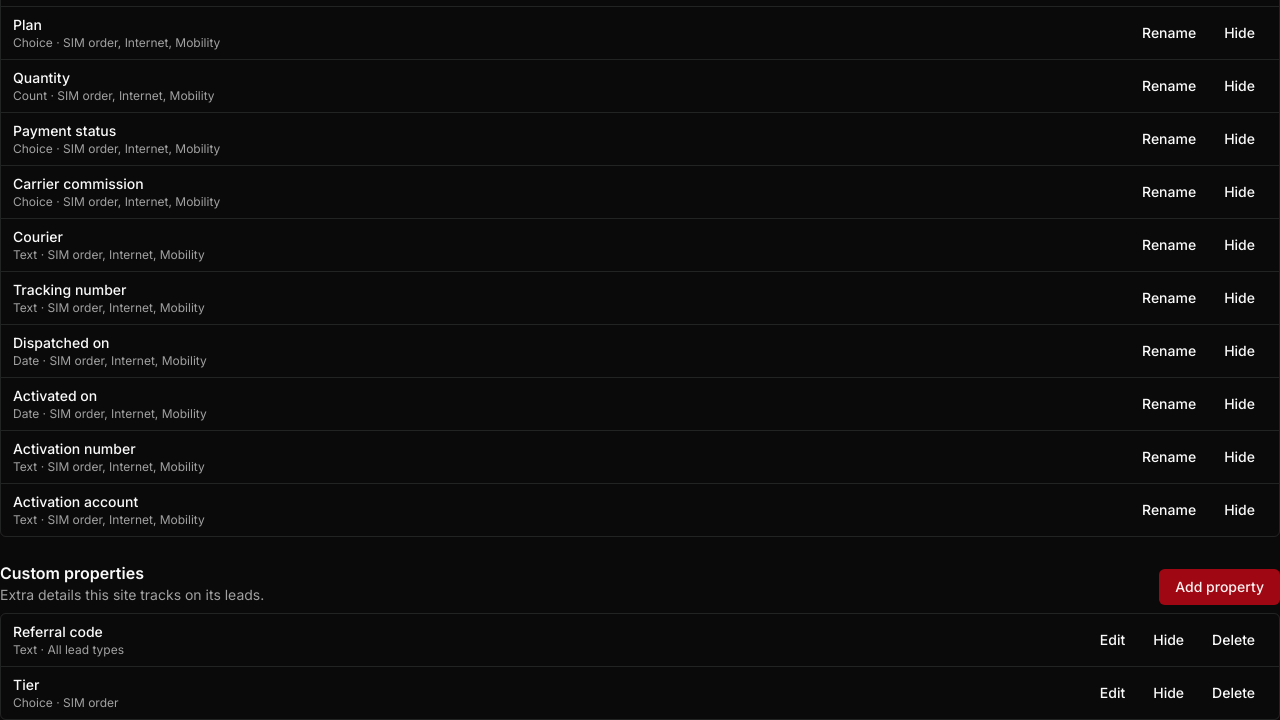
Scenario: PropertiesSettings properties › adds a custom property and reloads
(page scrolled)
Expected: the list named "Custom properties" is shown, [0,613,1279,719]
Click the button "Add property" at (1220, 587), box [1159,569,1279,605]
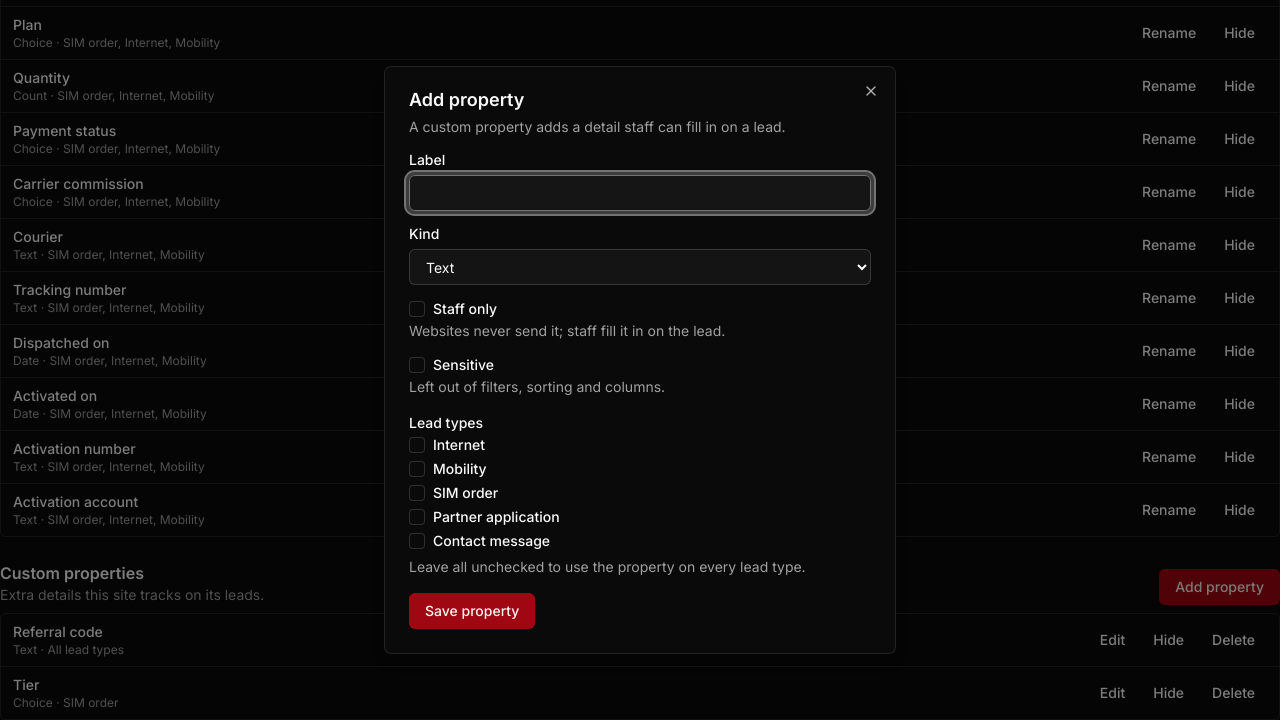
Type "Account manager" into the field labelled "Label" at (640, 193), box [409,175,871,211]
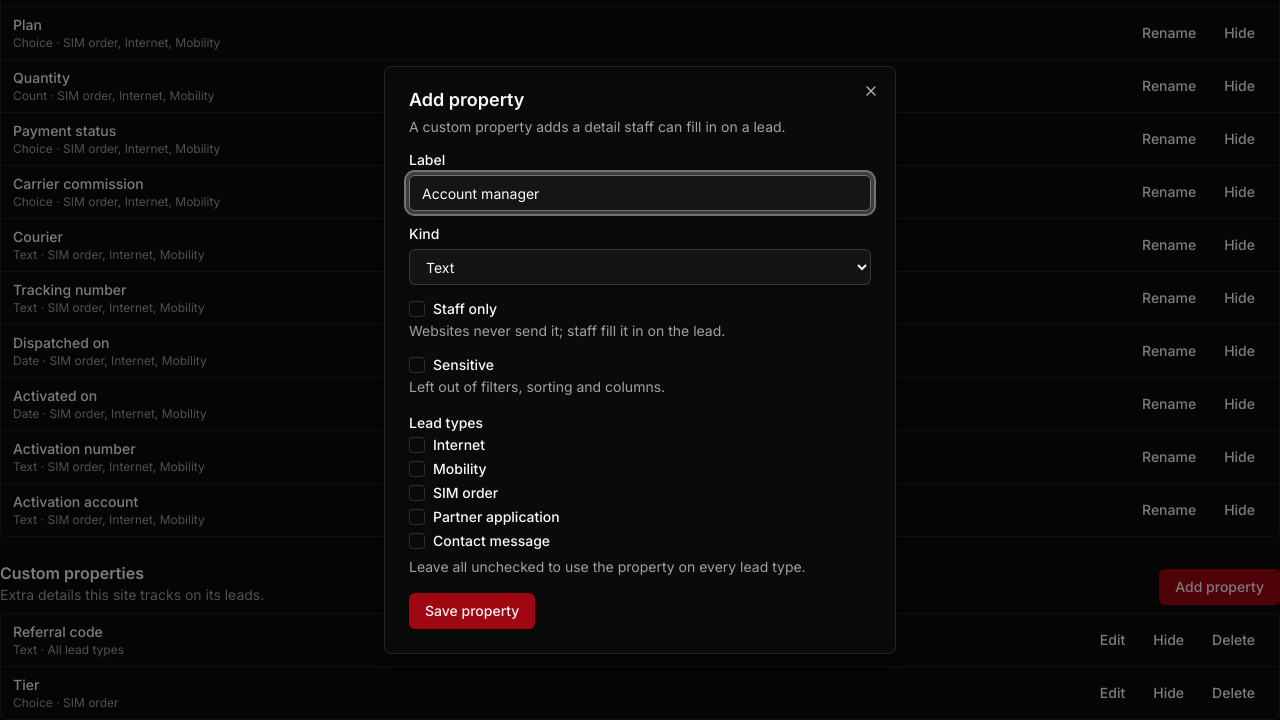
Click the button "Save property" at (472, 611), box [409,593,535,629]
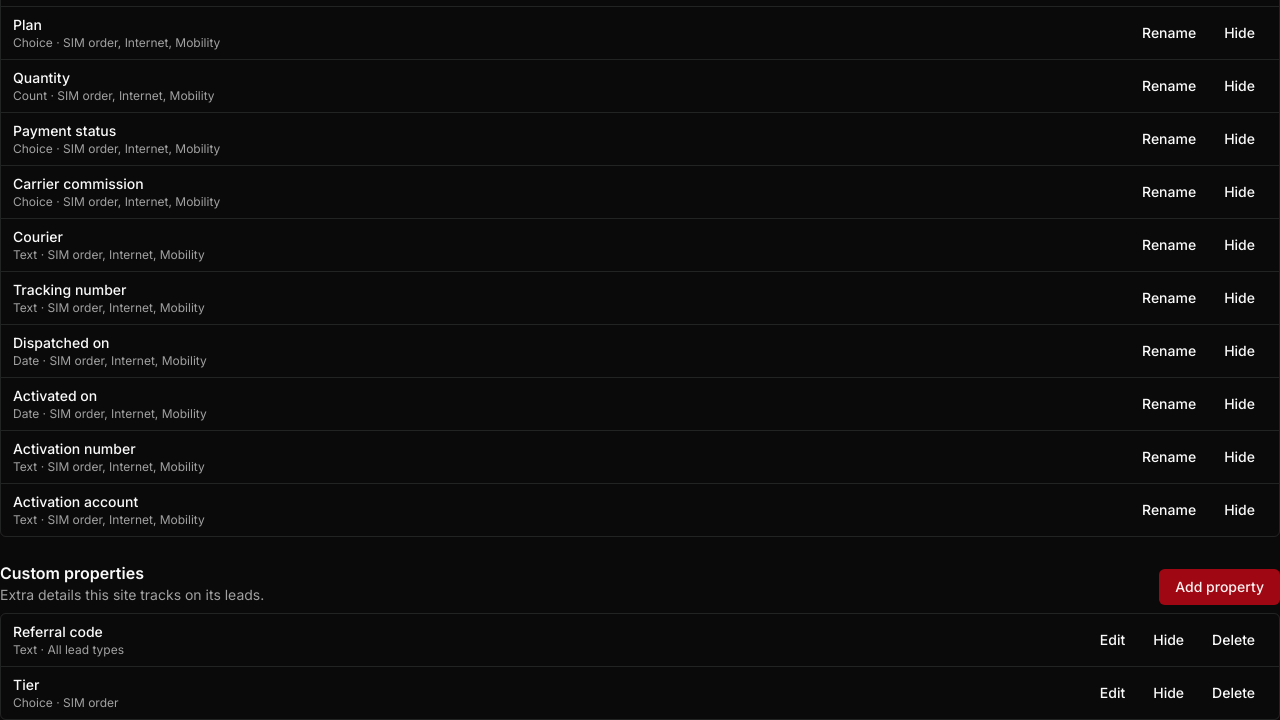
Expected: the dialog is gone
